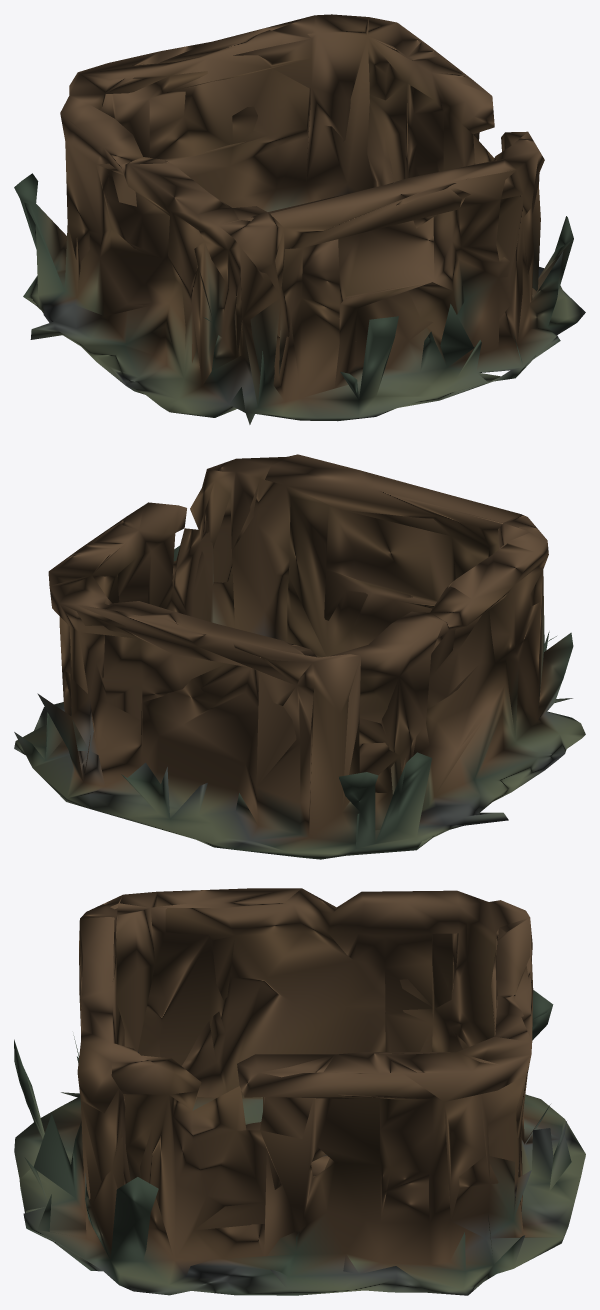
The model's file is gen3d-sunken-crate-lod0.glb.
3 renders of one model, top to bottom at view 1: azimuth 30°, elevation 25°; view 2: azimuth 150°, elevation 25°; view 3: azimuth 270°, elevation 25°, orthographic. The views are drawn at different scales.
Visible parts, largest first — view 1: part_0; view 2: part_0; view 3: part_0.
Boxes of the visible parts, x1,y1,x2,y2 form: part_0: [14, 14, 585, 424]; part_0: [14, 454, 585, 859]; part_0: [14, 888, 585, 1295].
Bounding box in the file's own units: 2.39 × 0.9939 × 2.38.
